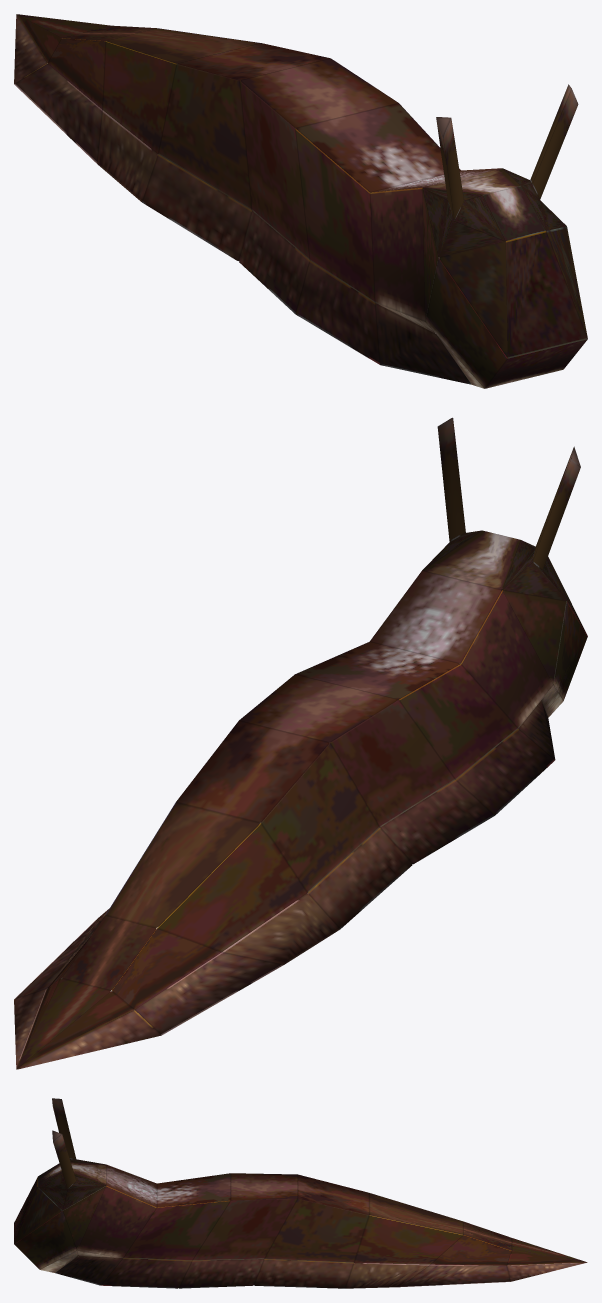
3 renders of one model, top to bottom at view 1: azimuth 30°, elevation 25°; view 2: azimuth 150°, elevation 25°; view 3: azimuth 270°, elevation 25°, orthographic. The views are drawn at different scales.
Visible parts, largest first — view 1: T1L5M009_16; view 2: T1L5M009_16; view 3: T1L5M009_16.
Boxes of the visible parts, left/top/right/bottom form: T1L5M009_16: left=14, top=14, right=587, bottom=388; T1L5M009_16: left=14, top=417, right=587, bottom=1069; T1L5M009_16: left=14, top=1098, right=587, bottom=1288.
Bounding box in the file's own units: 0.5742 × 0.7546 × 2.64.
